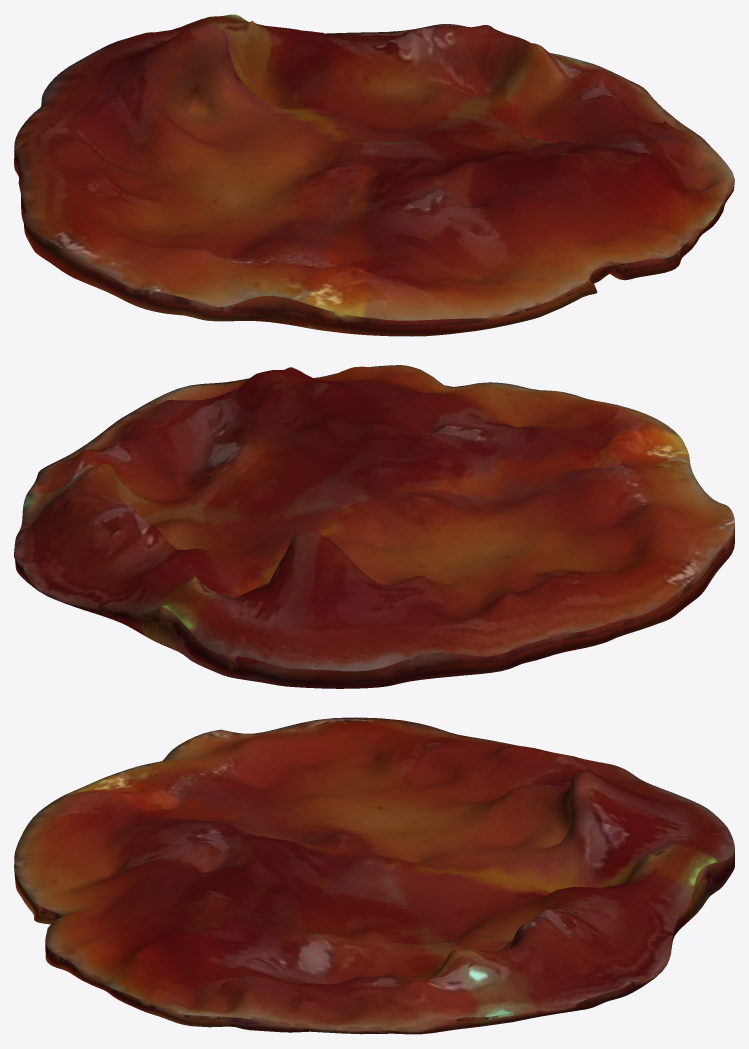
The model's file is sauce-ketchup.glb.
The picture shows the model from 3 angles, top to bottom: view 1: azimuth 30°, elevation 25°; view 2: azimuth 150°, elevation 25°; view 3: azimuth 270°, elevation 25°; orthographic projection.
Visible parts, largest first — view 1: sauce-ketchup; view 2: sauce-ketchup; view 3: sauce-ketchup.
Part boxes in pixels (x1,y1,x2,y2): sauce-ketchup: (14,14,734,336); sauce-ketchup: (14,365,734,688); sauce-ketchup: (14,717,734,1034).
Bounding box in the file's own units: 6.67 × 1.13 × 6.82.
Materials: 1 (1 with a texture image).
